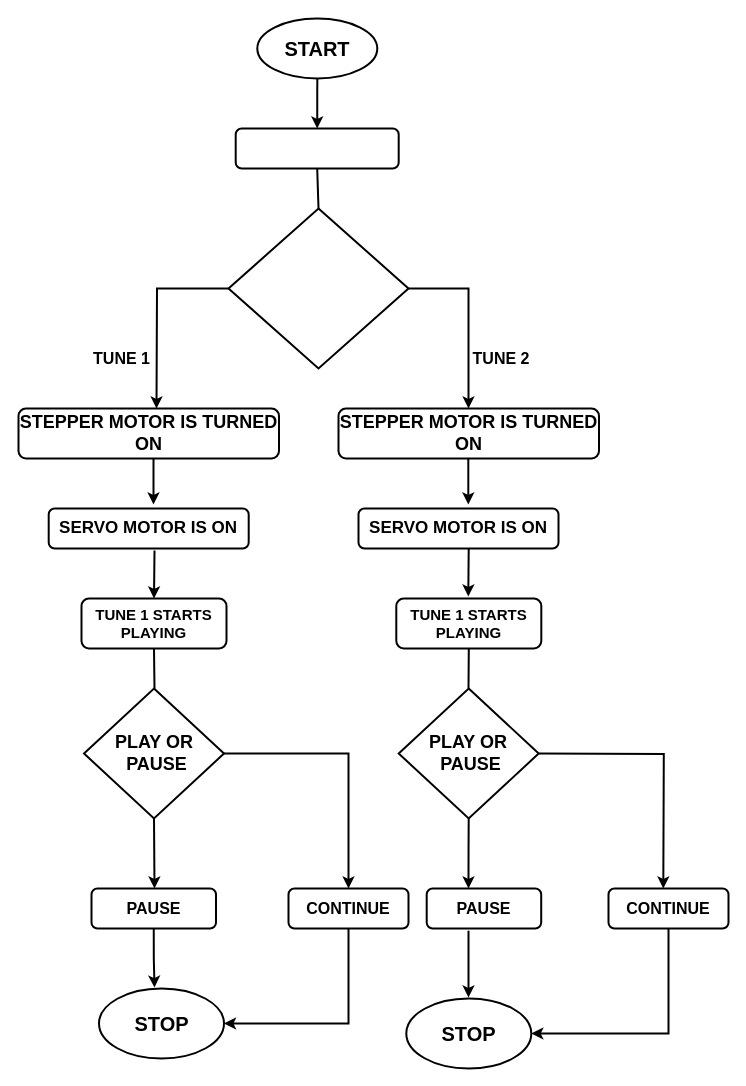
Some shapes in this 746 by 1086 pixel diagram are drawn without their labels. Here are the shapes that lost their labels. From the top down, the centre of each, then its label:
the point at 316,148: SELECT TUNE
the point at 318,288: TYPE 1 OR 2
